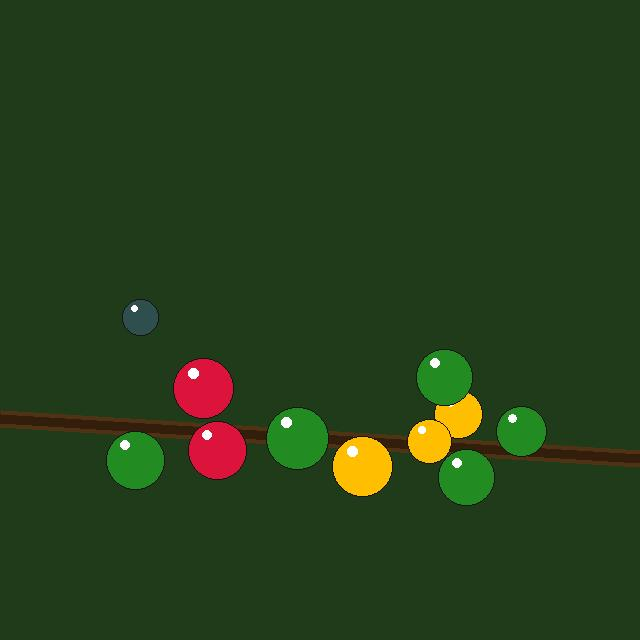Dry_Damaged: (122, 299, 158, 335)
Ripe: (173, 358, 233, 418), (188, 421, 246, 479)
Ripening: (332, 436, 392, 496), (434, 390, 482, 438), (407, 419, 451, 463)
Unripe: (266, 407, 328, 469), (106, 431, 164, 489), (438, 449, 494, 505), (416, 349, 472, 405), (496, 406, 546, 456)
